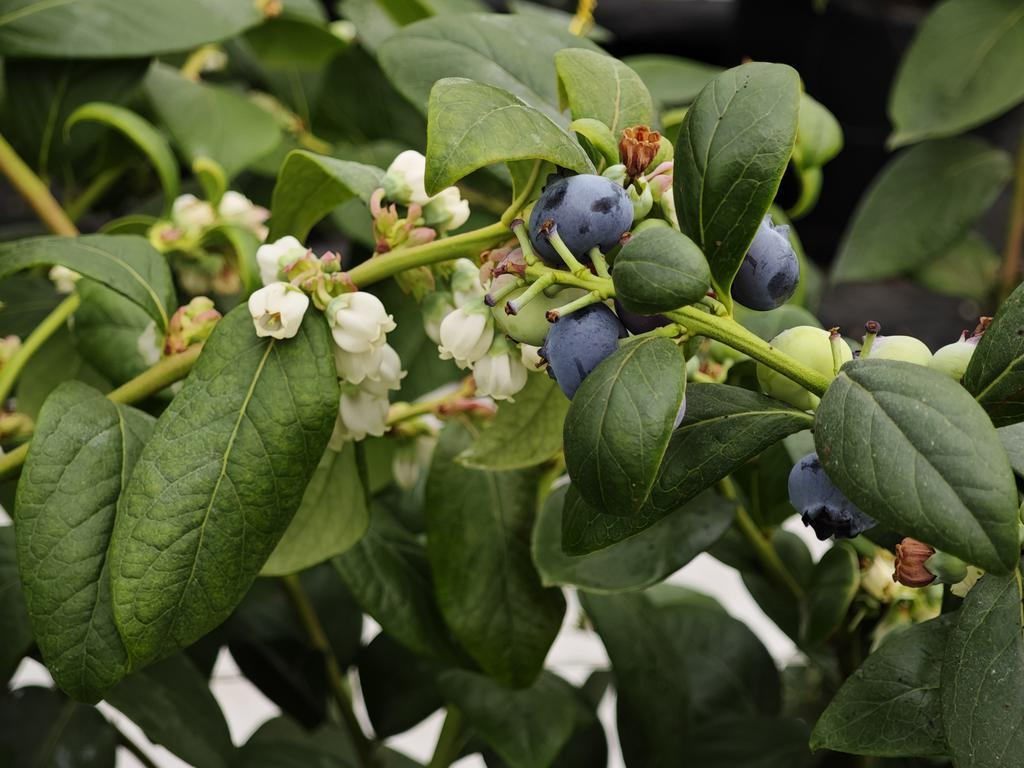RipeBlueBerry: (526, 171, 634, 258), (537, 305, 624, 404), (789, 456, 884, 543), (731, 216, 804, 312)
